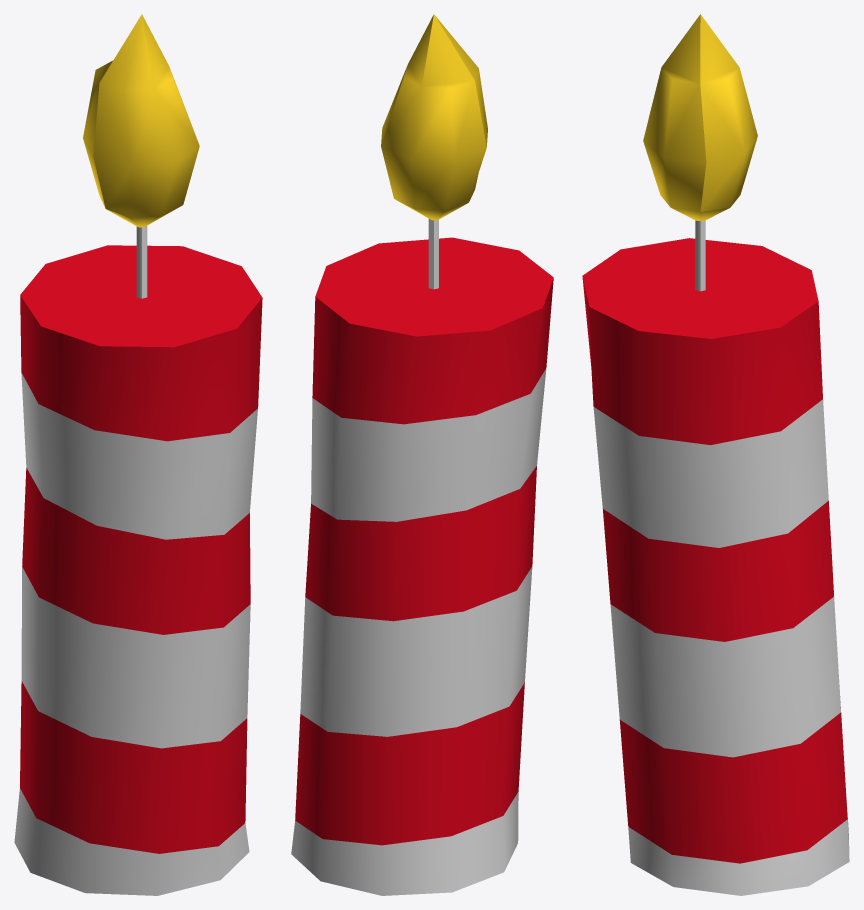
Rendered from Light_1_Christmas.fbx.
3 renders of one model, left to right at view 1: azimuth 30°, elevation 25°; view 2: azimuth 150°, elevation 25°; view 3: azimuth 270°, elevation 25°, orthographic. The views are drawn at different scales.
Visible parts, largest first — view 1: Light_1_Christmas; view 2: Light_1_Christmas; view 3: Light_1_Christmas.
Part boxes in pixels (x1,y1,x2,y2): Light_1_Christmas: [14, 14, 262, 895]; Light_1_Christmas: [291, 14, 553, 895]; Light_1_Christmas: [582, 14, 849, 895].
Size of the model in its own units: 68.29 by 253 by 74.01.
